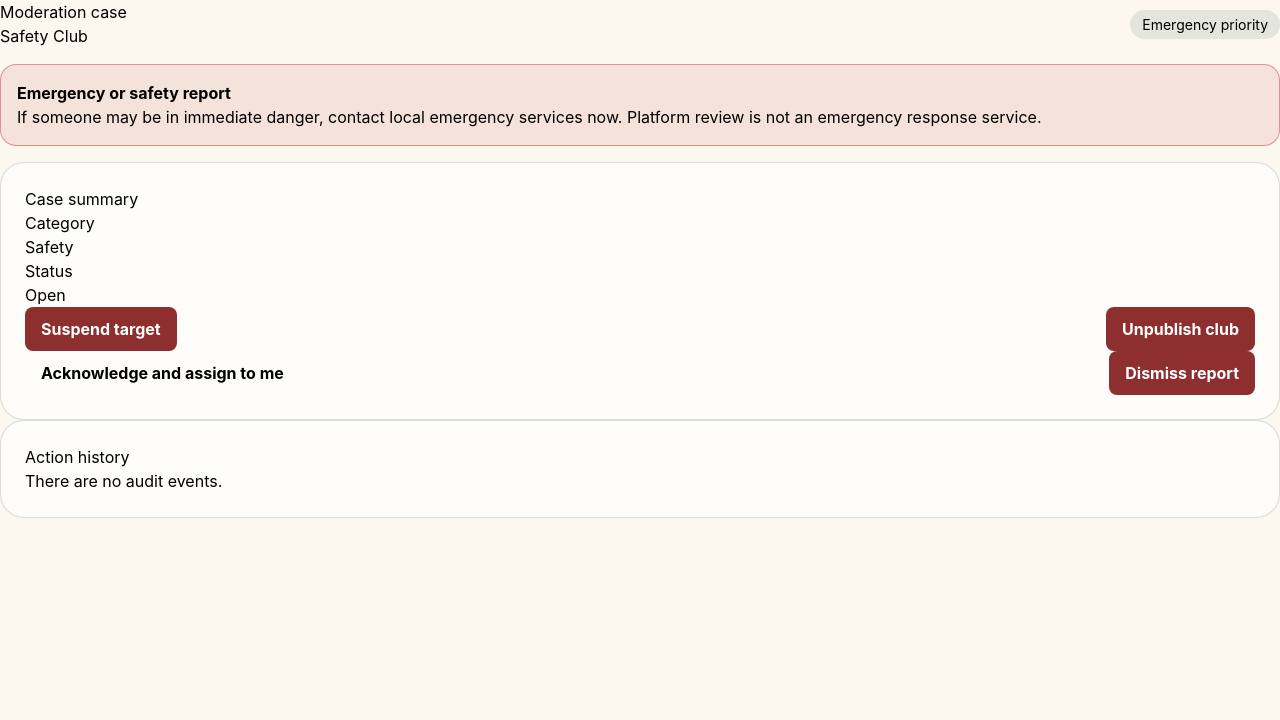
admin moderation UI › renders exactly the available actions and confirms with one idempotency key
expect the button "Unpublish club" is shown: met, box left=1106, top=307, right=1255, bottom=351
expect the button "Restore target" is not shown: met
Click the button "Suspend target". click: [101, 329]
box: left=25, top=307, right=177, bottom=351
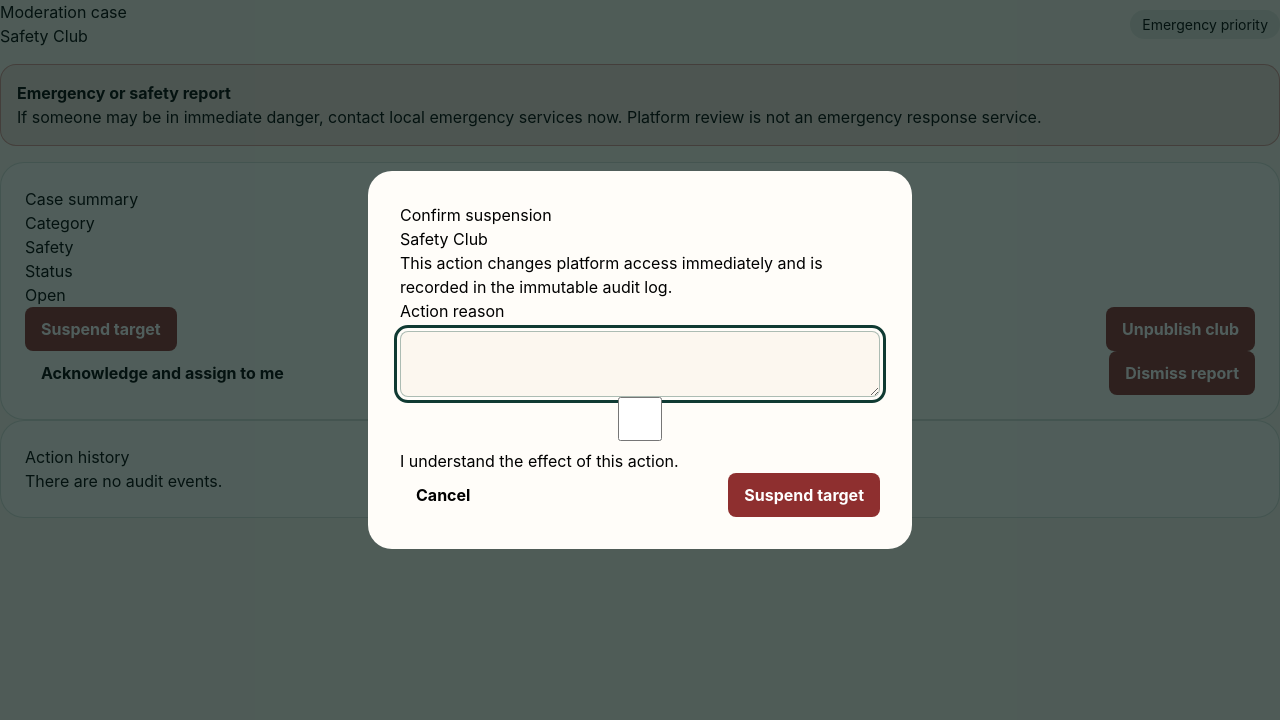
Type "Repeated safety violations" into the text box labelled "Action reason". click: [640, 364]
box: left=400, top=331, right=880, bottom=397
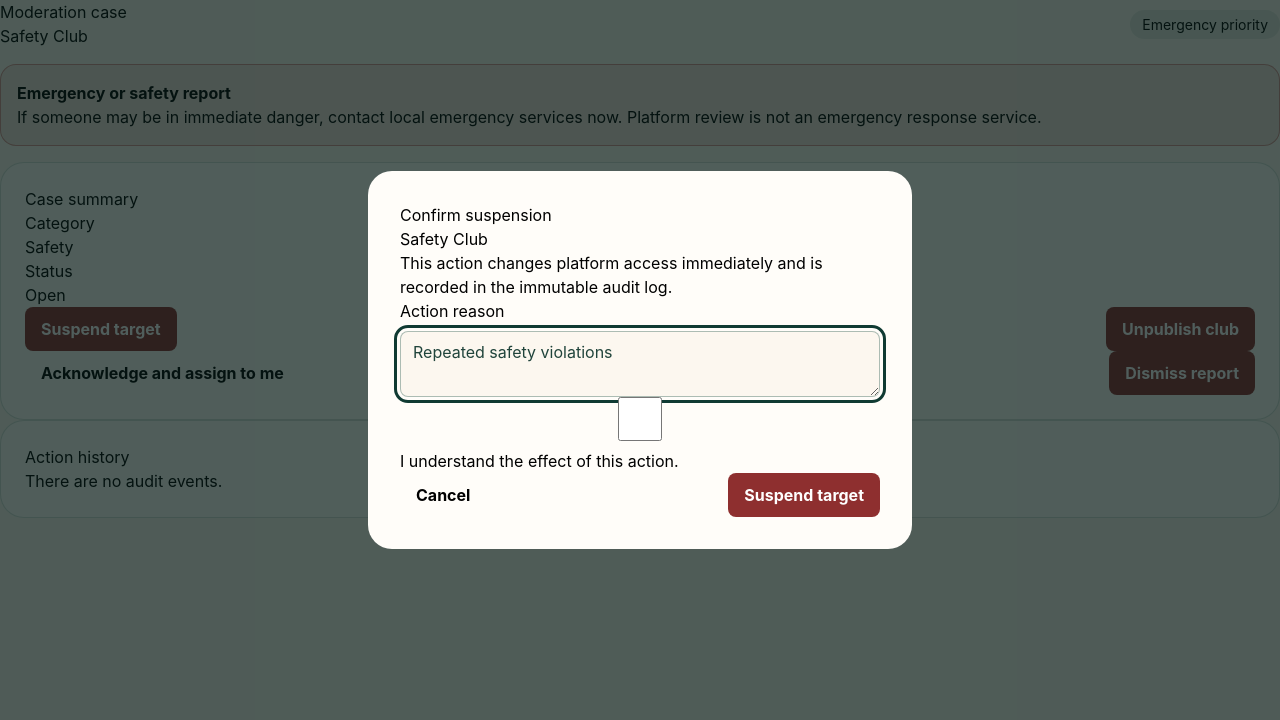
Click the checkbox labelled "I understand the effect of this action.". click: [640, 419]
box: left=400, top=397, right=880, bottom=441
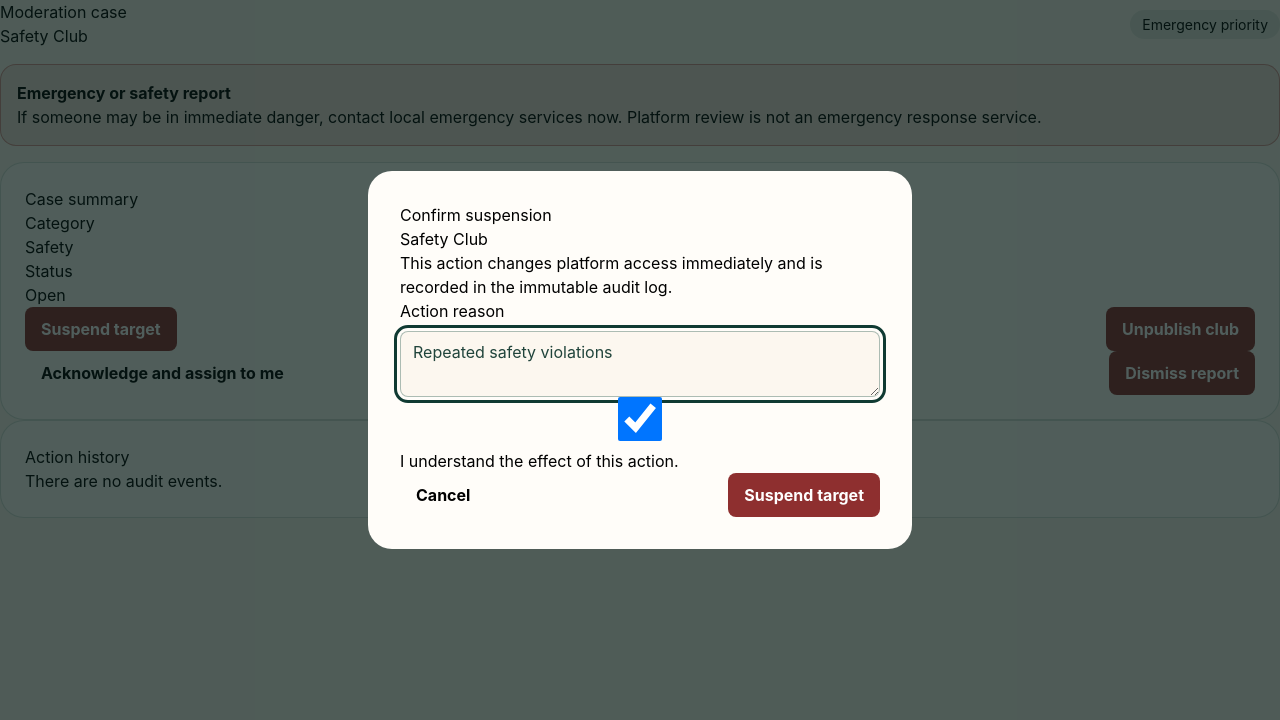
Submit the form, box left=368, top=171, right=912, bottom=549
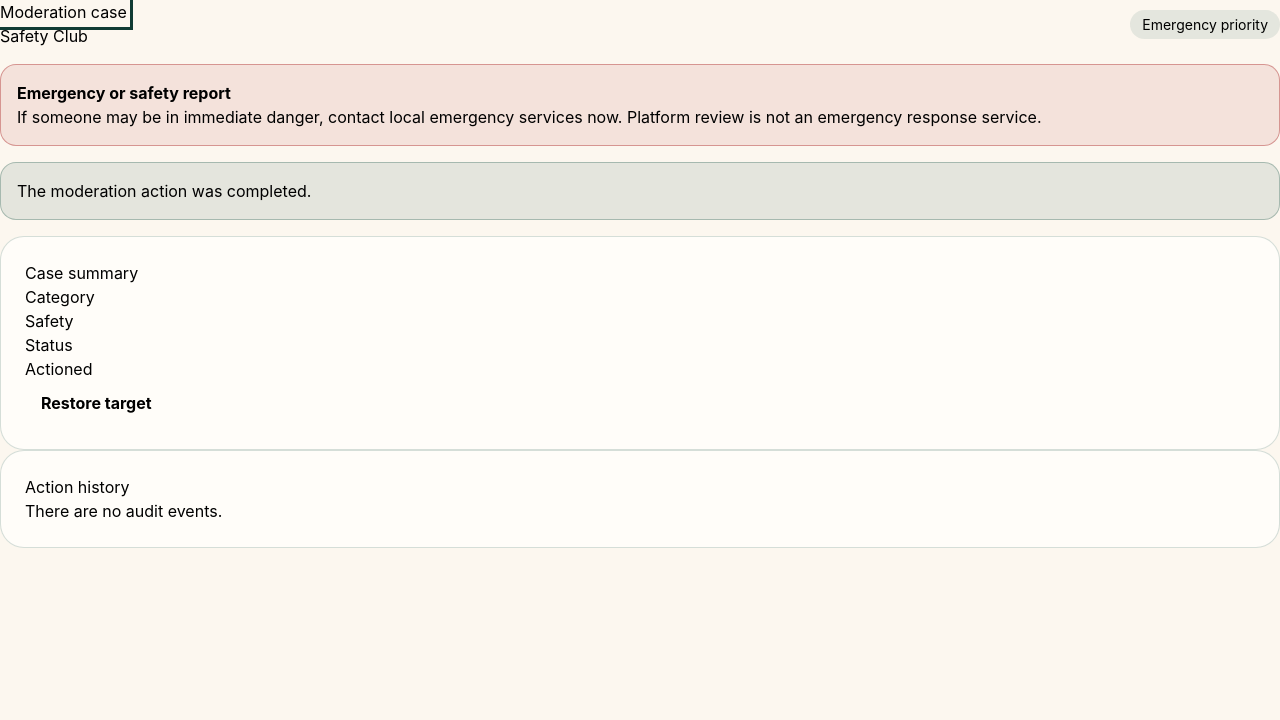
expect the button "Restore target" is shown: met, box left=25, top=381, right=168, bottom=425
